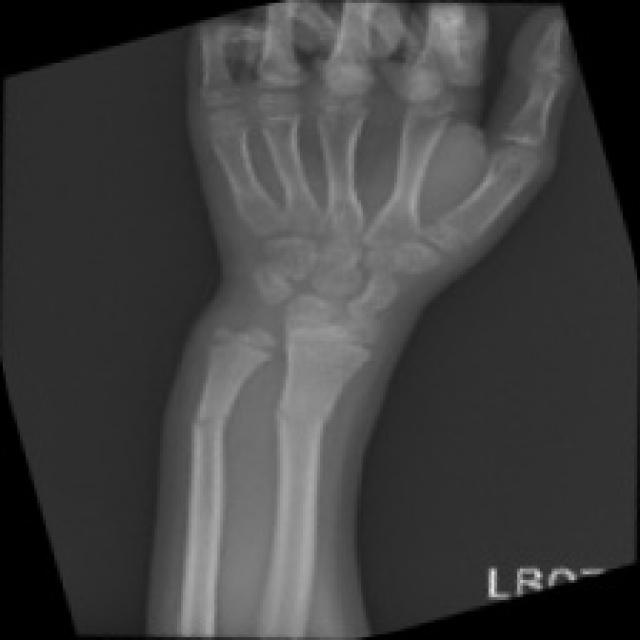fracture: (268, 381, 340, 463), (180, 381, 235, 460)
